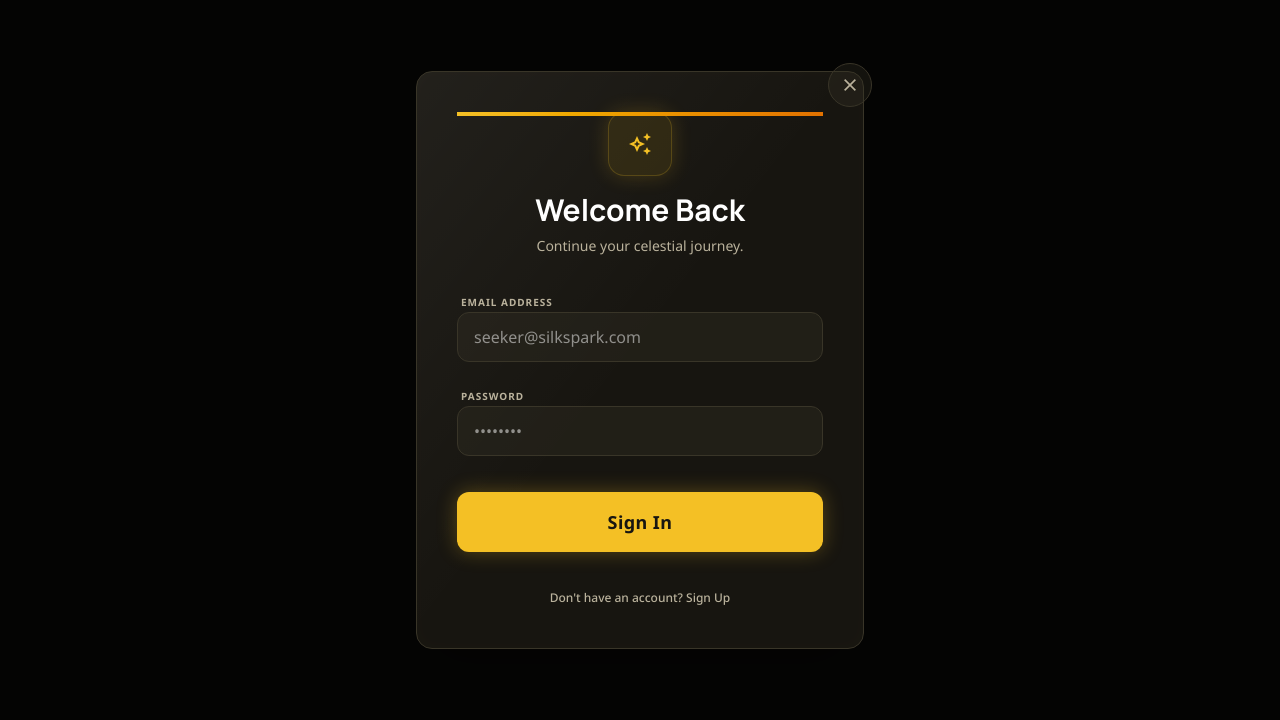
Scenario: Auth › login functionality › should show error message on login failure
Step 1. Type "test@example.com" into the field with placeholder "seeker@silkspark.com" → (640, 337), box [457,312,823,362]
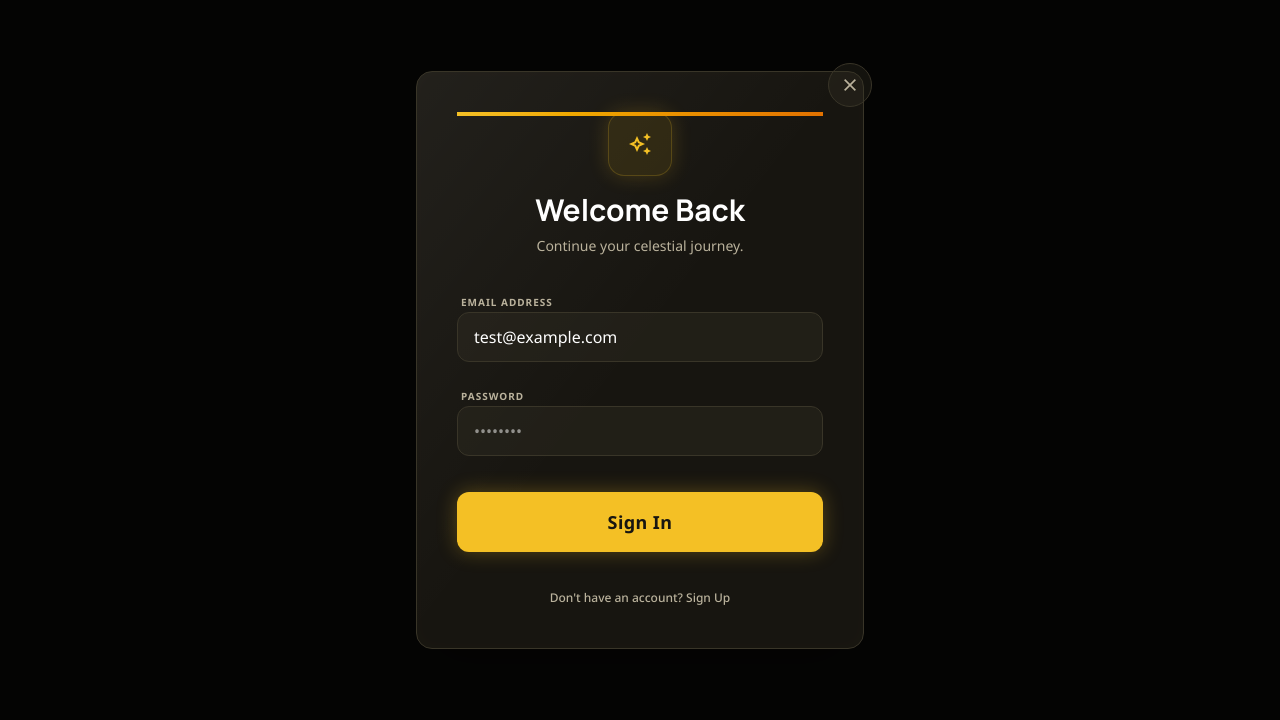
Step 2. Type "wrongpass" into the password field with placeholder "••••••••" → (640, 431), box [457,406,823,456]
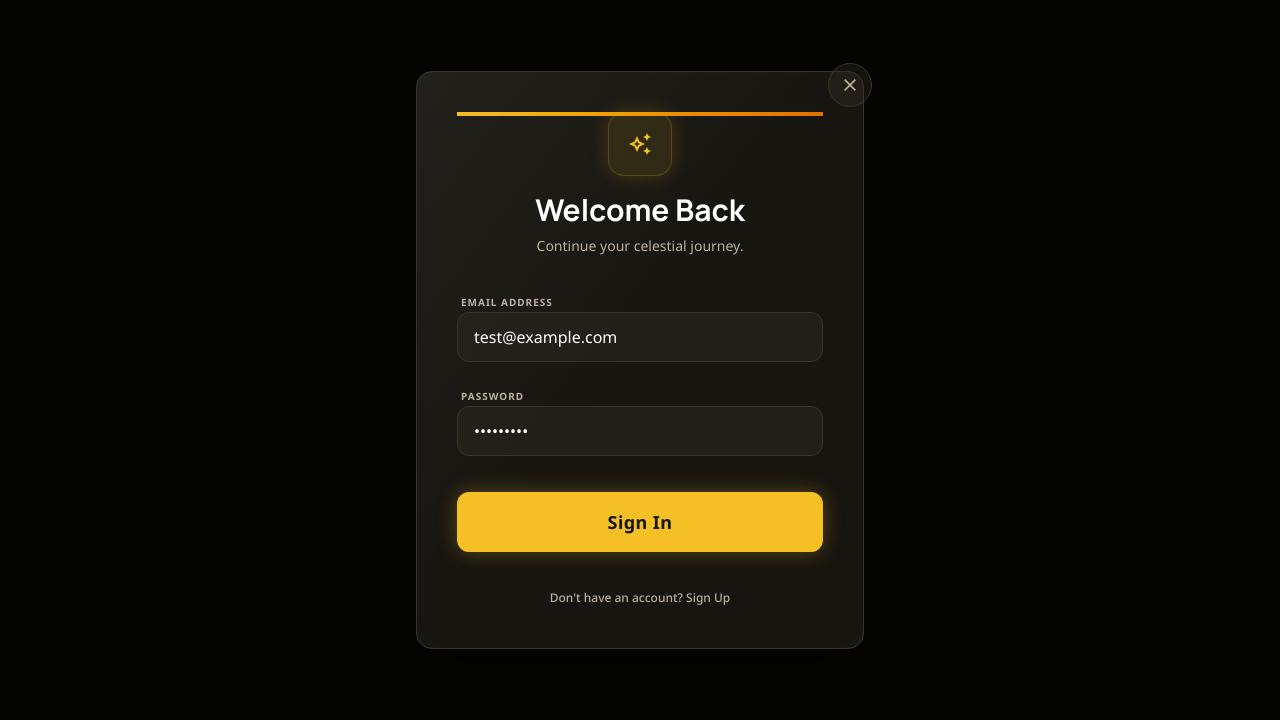
Step 3. Submit the form from the button "Sign In", box [457,492,823,552]
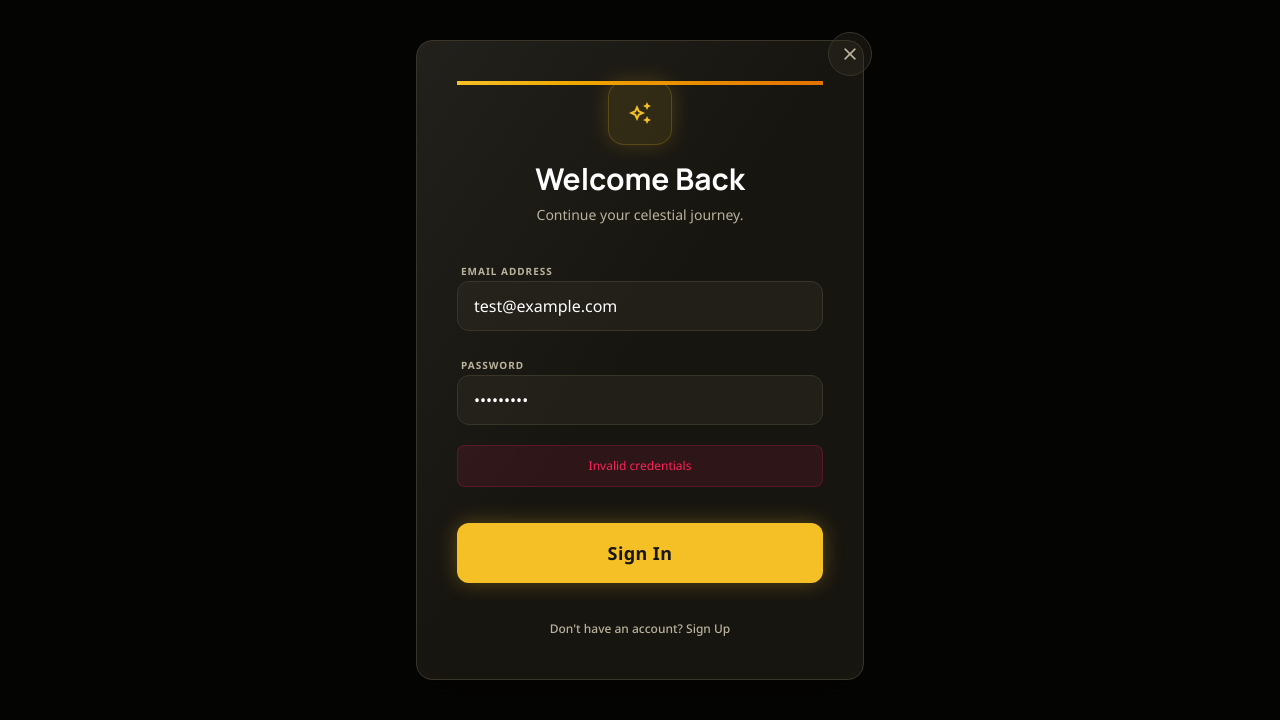
Check: the text "Invalid credentials" is shown, box [457,445,823,487]
